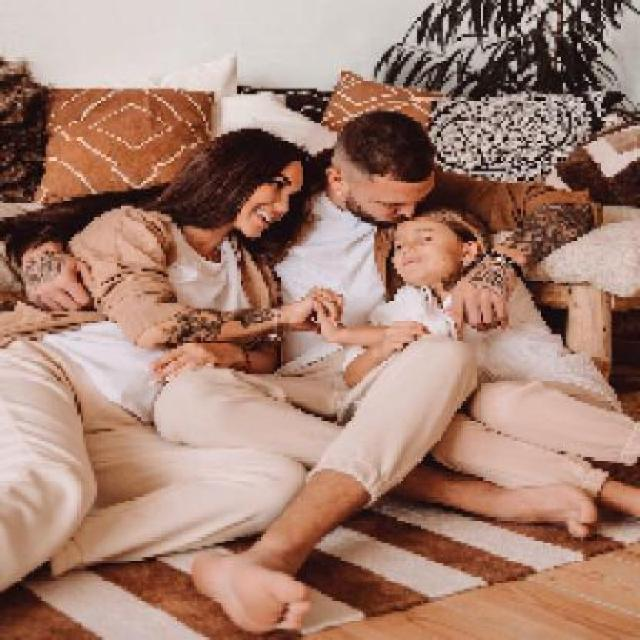child: (320, 202, 637, 518)
